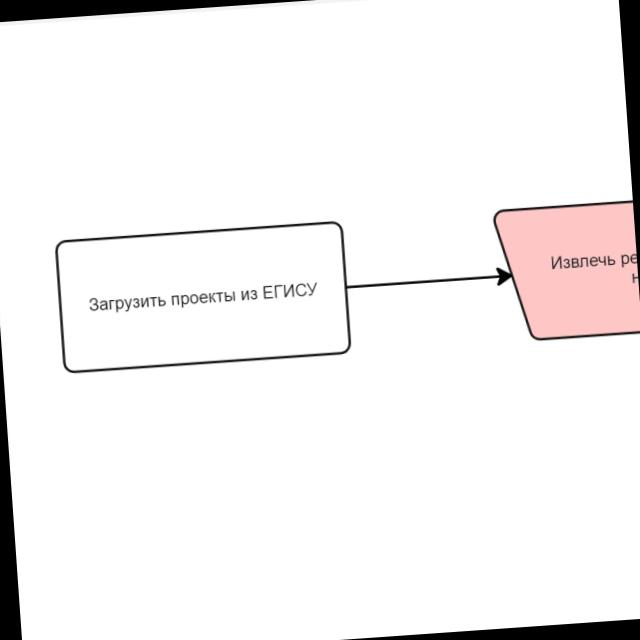arrow: (346, 262, 513, 298)
rectangle: (53, 219, 353, 376)
